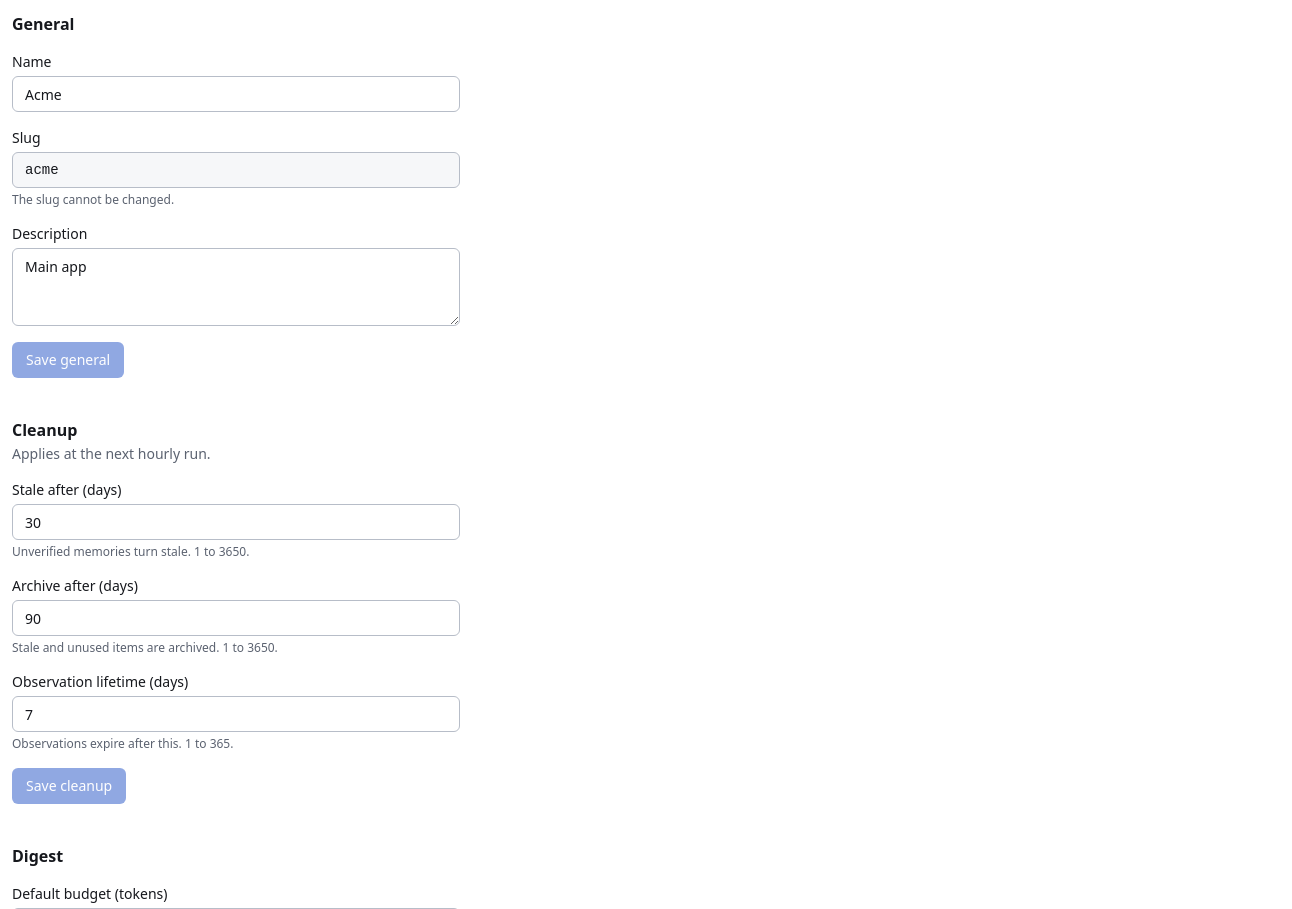
SettingsForm › keeps Save disabled until a field changes and sends only the changed keys of that section
Expected: the button "Save cleanup" is disabled, [12, 768, 126, 804]
Replace the text in the number field labelled "Stale after (days)" with "45" at (236, 522), box [12, 504, 460, 540]
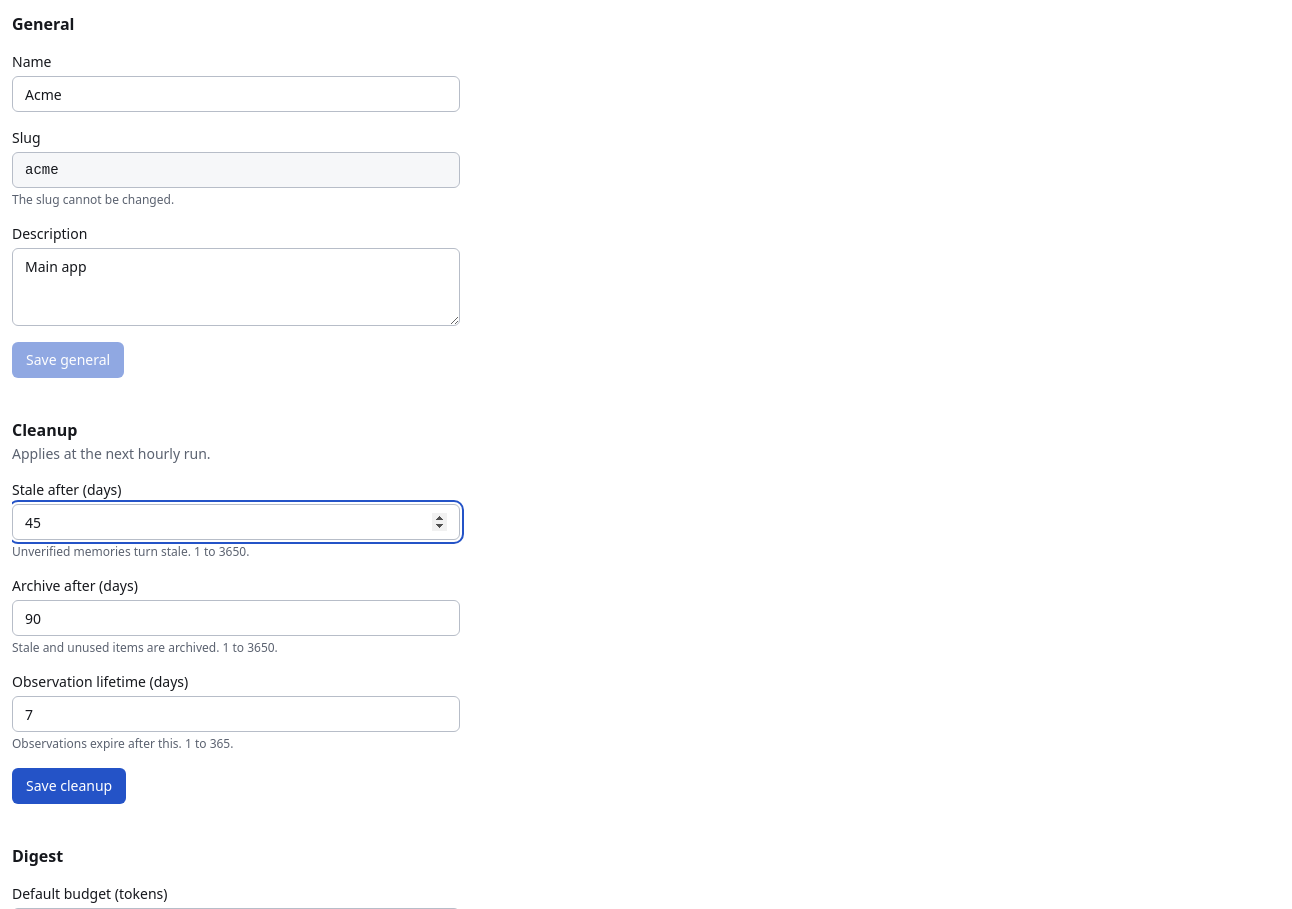
Expected: the button "Save cleanup" is enabled
Click the button "Save cleanup" at (69, 786), box [12, 768, 126, 804]
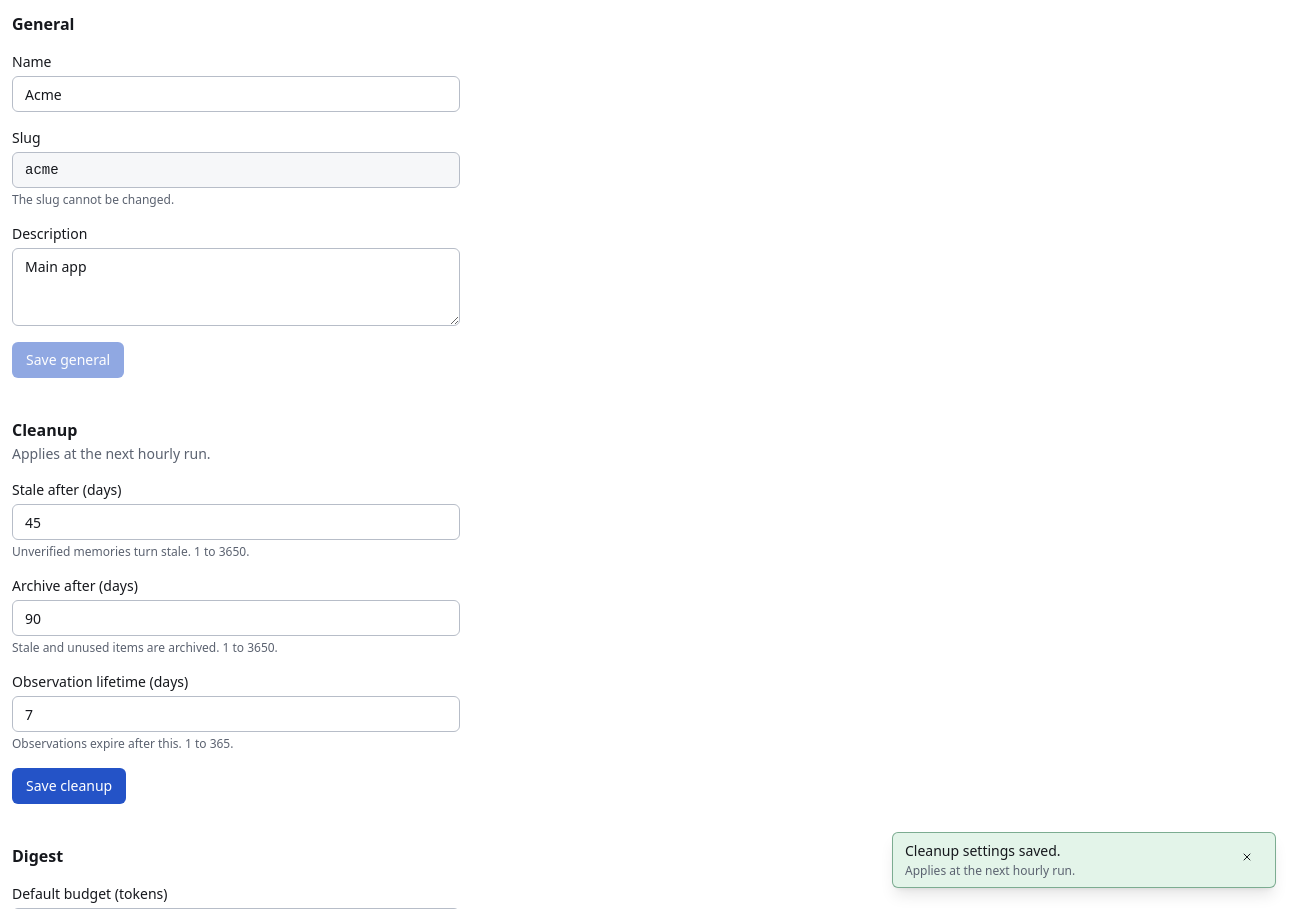
Expected: the text "Cleanup settings saved." is shown, [905, 841, 1061, 860]
